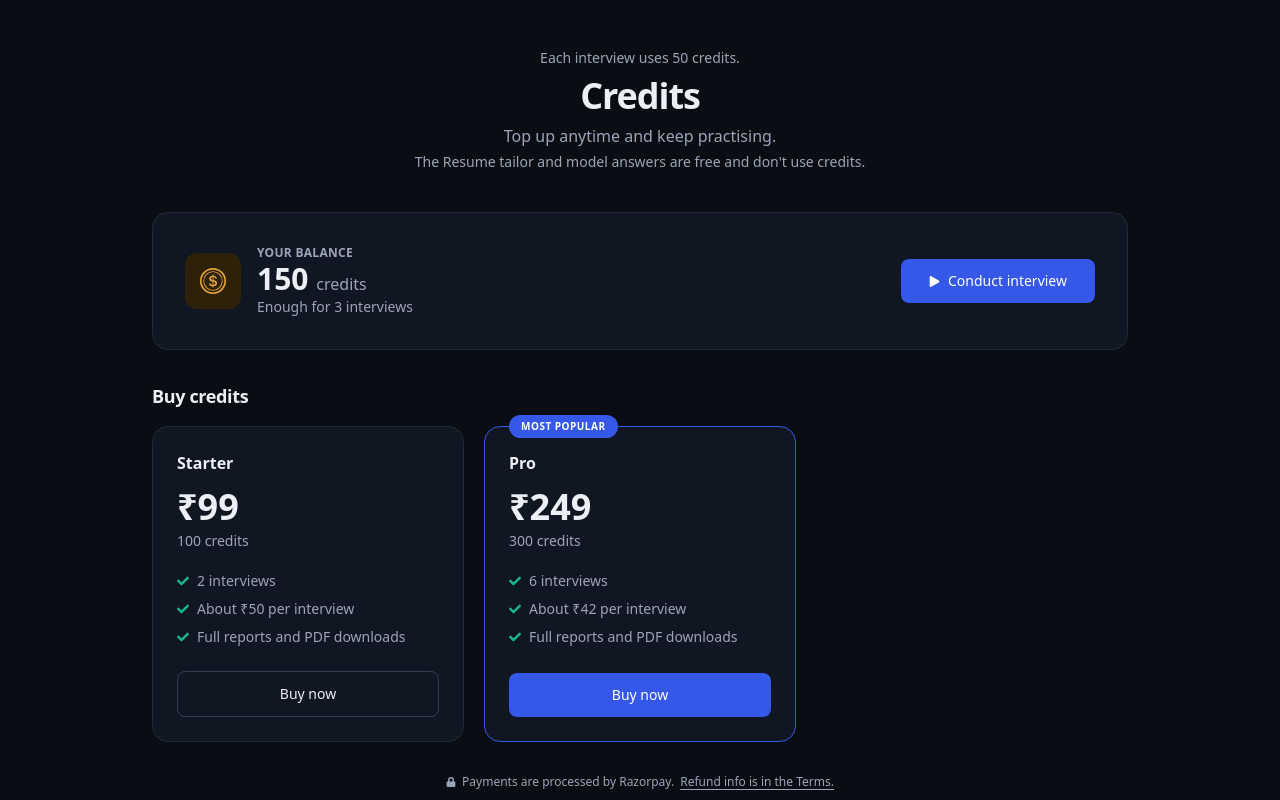
Pricing: buying credits › says so when the payment was already recorded, without adding credits twice
Click the button "Buy now" below "42".
click(640, 695)  # box 509,673 -> 771,717
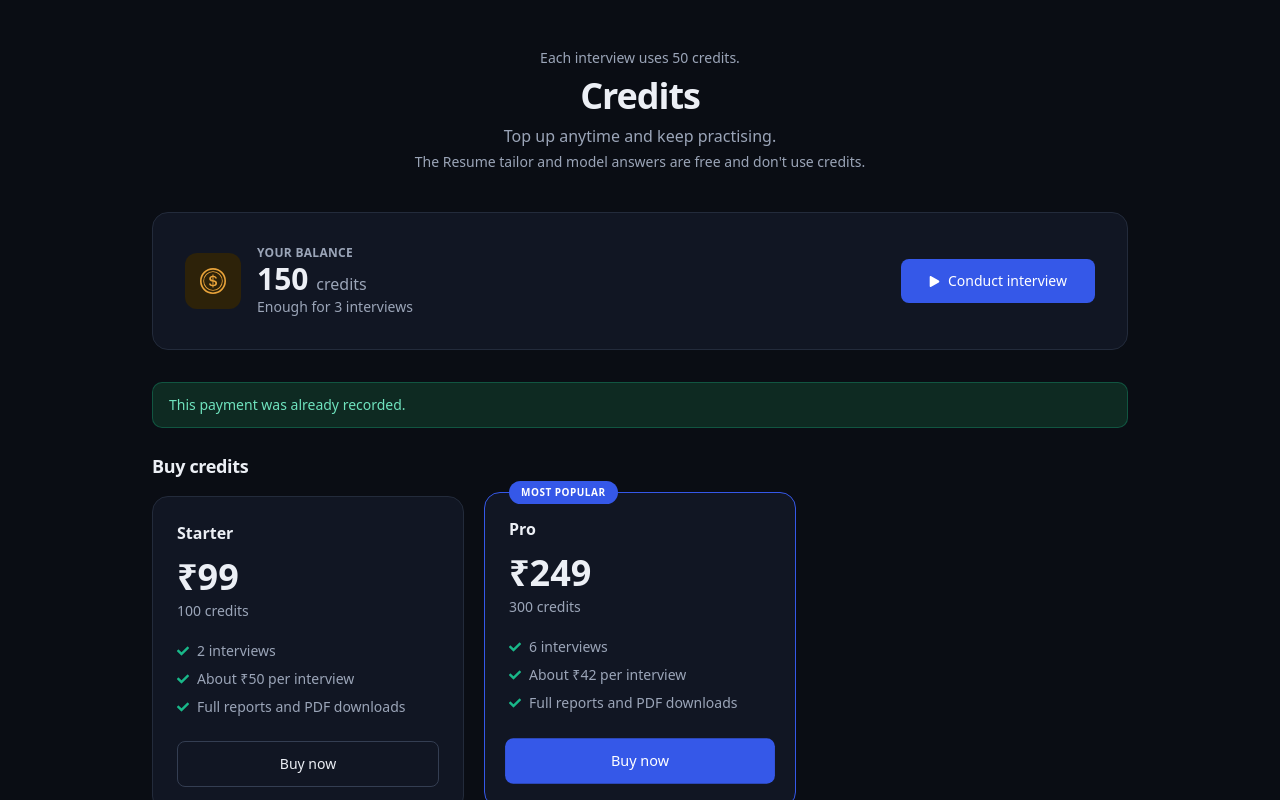
Check: the text "This payment was already recorded." is shown, box 152,382 -> 1128,428
